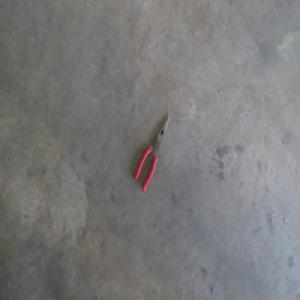Pliers: (133, 115, 170, 193)
